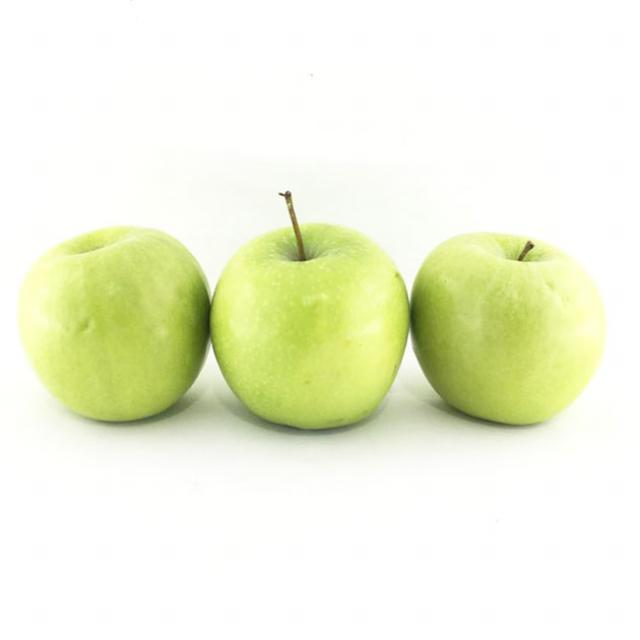apple: (212, 220, 410, 432), (414, 230, 610, 428), (14, 222, 207, 423)
